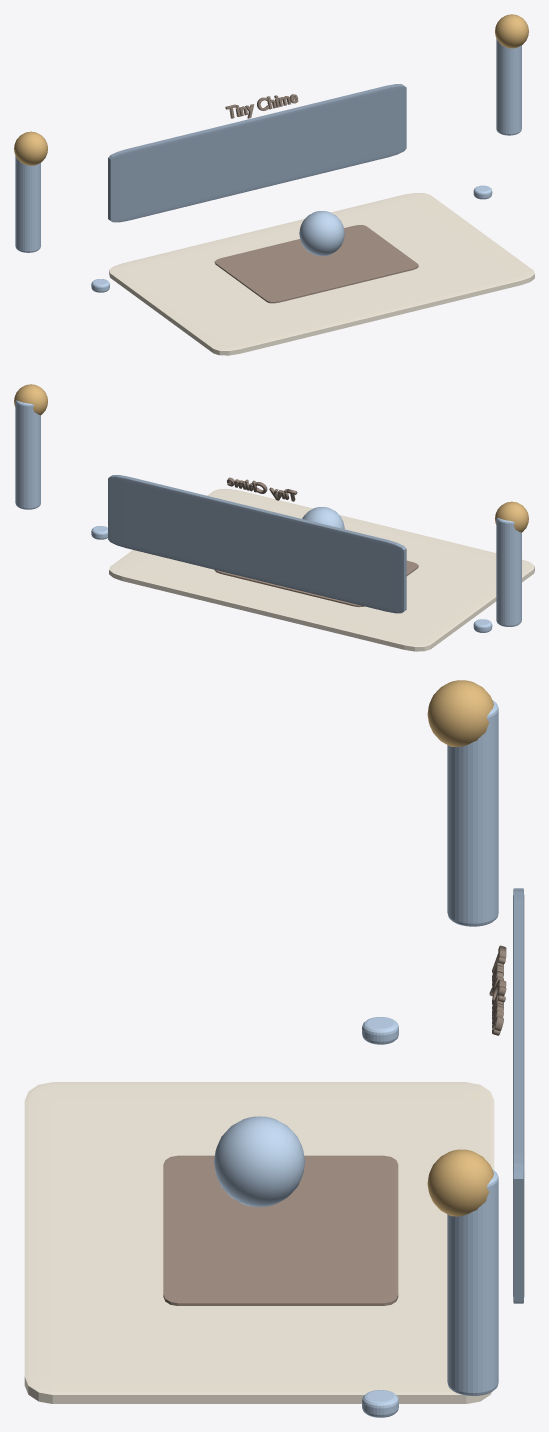
Rendered from 07_speakers.glb.
3 views of the same model, one above another, from view 1: azimuth 30°, elevation 25°; view 2: azimuth 150°, elevation 25°; view 3: azimuth 270°, elevation 25° (orthographic). The views are drawn at different scales.
Visible parts, largest first — view 1: PaperFloor-col, BackCard, StageMat, PaperLantern, PaperLantern.001, TinyChimeSpeaker, LanternGlow, LanternGlow.001, TitleLabel; view 2: BackCard, PaperFloor-col, PaperLantern.001, PaperLantern, LanternGlow, LanternGlow.001, StageMat, TitleLabel, TinyChimeSpeaker; view 3: PaperFloor-col, StageMat, PaperLantern, PaperLantern.001, TinyChimeSpeaker, BackCard, LanternGlow.001, LanternGlow, TitleLabel, CardConfetti, CardConfetti.001.
Boxes of the visible parts, x1=… form: PaperFloor-col: x1=109, y1=193, x2=534, y2=355; BackCard: x1=108, y1=84, x2=406, y2=222; StageMat: x1=214, y1=225, x2=418, y2=303; PaperLantern: x1=15, y1=155, x2=40, y2=252; PaperLantern.001: x1=496, y1=38, x2=521, y2=135; TinyChimeSpeaker: x1=299, y1=211, x2=344, y2=256; LanternGlow: x1=14, y1=131, x2=47, y2=165; LanternGlow.001: x1=495, y1=14, x2=528, y2=48; TitleLabel: x1=225, y1=94, x2=298, y2=118; BackCard: x1=108, y1=475, x2=406, y2=613; PaperFloor-col: x1=109, y1=489, x2=534, y2=651; PaperLantern.001: x1=15, y1=400, x2=40, y2=509; PaperLantern: x1=496, y1=518, x2=521, y2=626; LanternGlow: x1=495, y1=501, x2=528, y2=532; LanternGlow.001: x1=14, y1=384, x2=47, y2=415; StageMat: x1=214, y1=560, x2=418, y2=607; TitleLabel: x1=227, y1=477, x2=297, y2=501; TinyChimeSpeaker: x1=302, y1=507, x2=344, y2=529; PaperFloor-col: x1=24, y1=1082, x2=494, y2=1403; StageMat: x1=163, y1=1155, x2=398, y2=1305; PaperLantern: x1=447, y1=700, x2=498, y2=926; PaperLantern.001: x1=447, y1=1169, x2=498, y2=1395; TinyChimeSpeaker: x1=214, y1=1116, x2=304, y2=1207; BackCard: x1=513, y1=888, x2=524, y2=1303; LanternGlow.001: x1=427, y1=1149, x2=493, y2=1216; LanternGlow: x1=427, y1=680, x2=493, y2=747; TitleLabel: x1=489, y1=945, x2=506, y2=1035; CardConfetti: x1=362, y1=1017, x2=398, y2=1044; CardConfetti.001: x1=362, y1=1390, x2=398, y2=1417.
Bounding box in the file's own units: 8.28 × 2.56 × 3.51.
